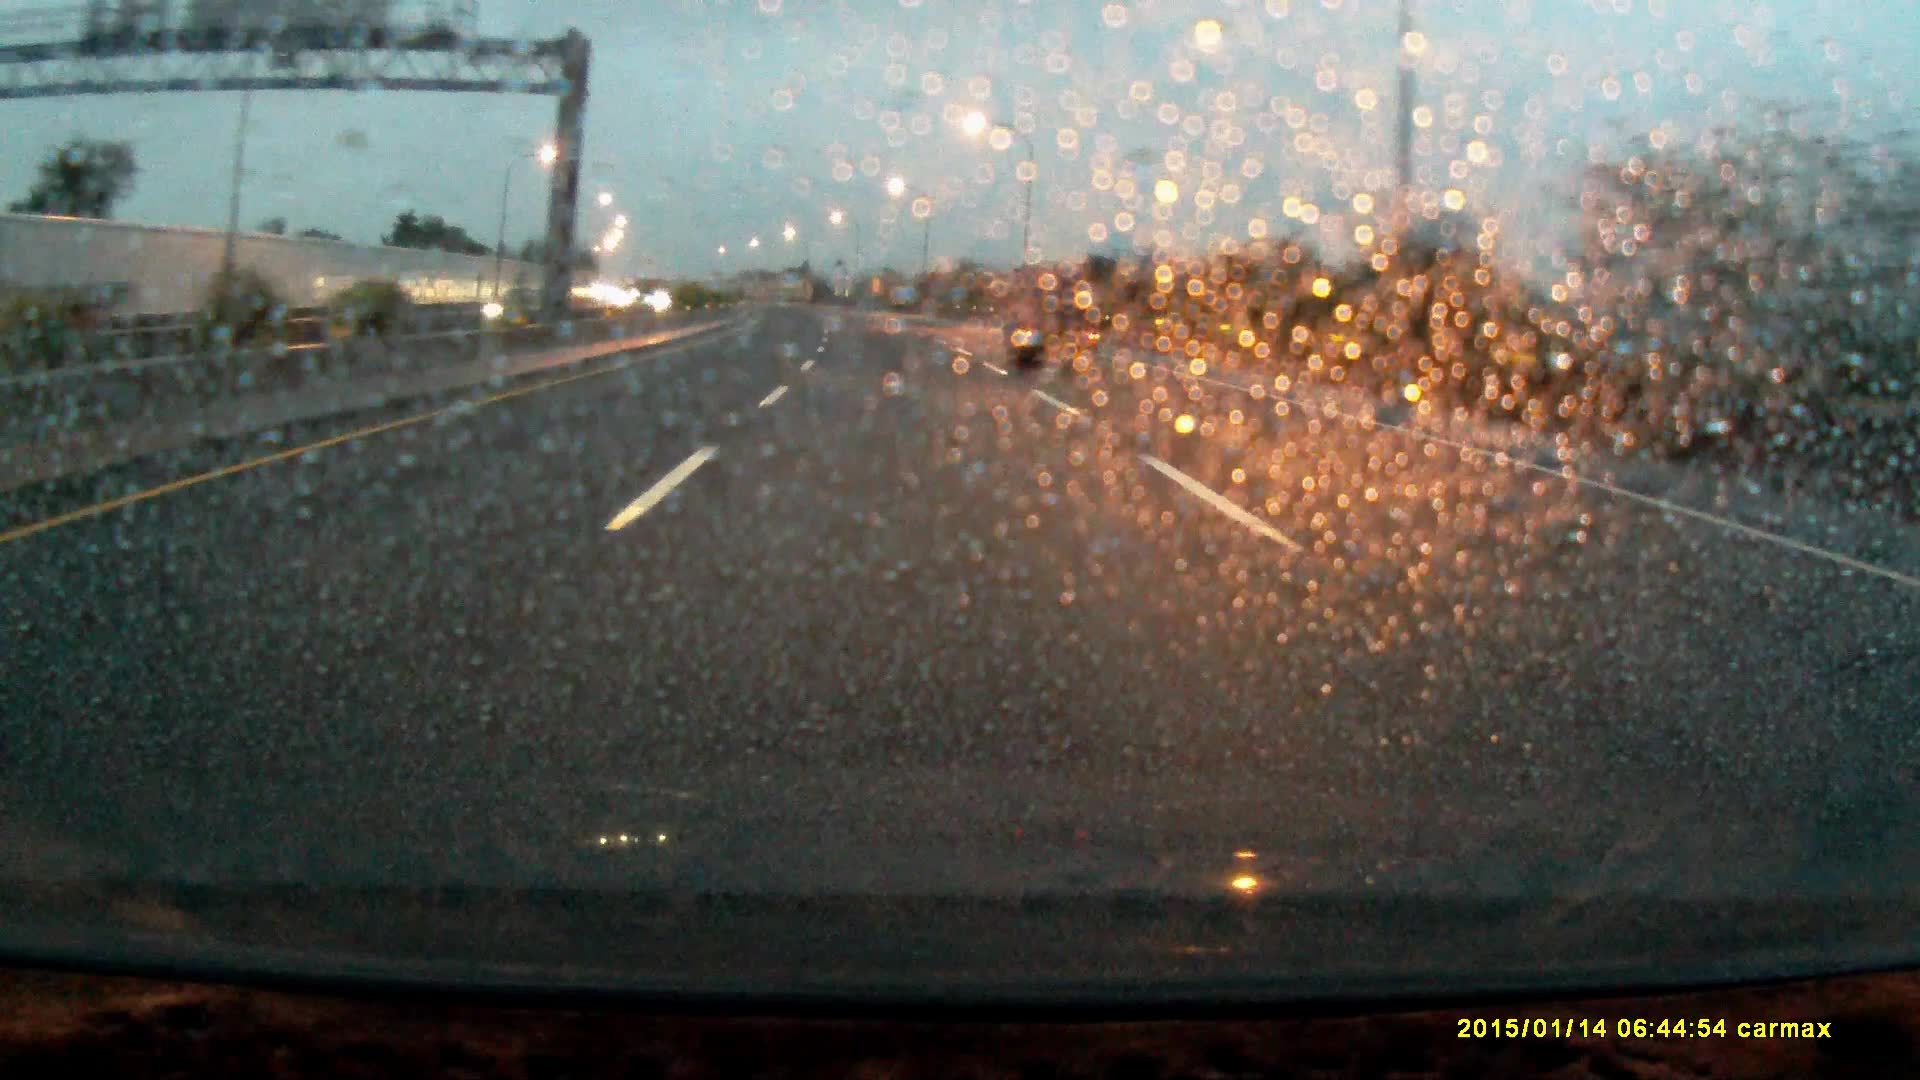vehicle: (3, 211, 167, 326), (1009, 276, 1098, 369)
